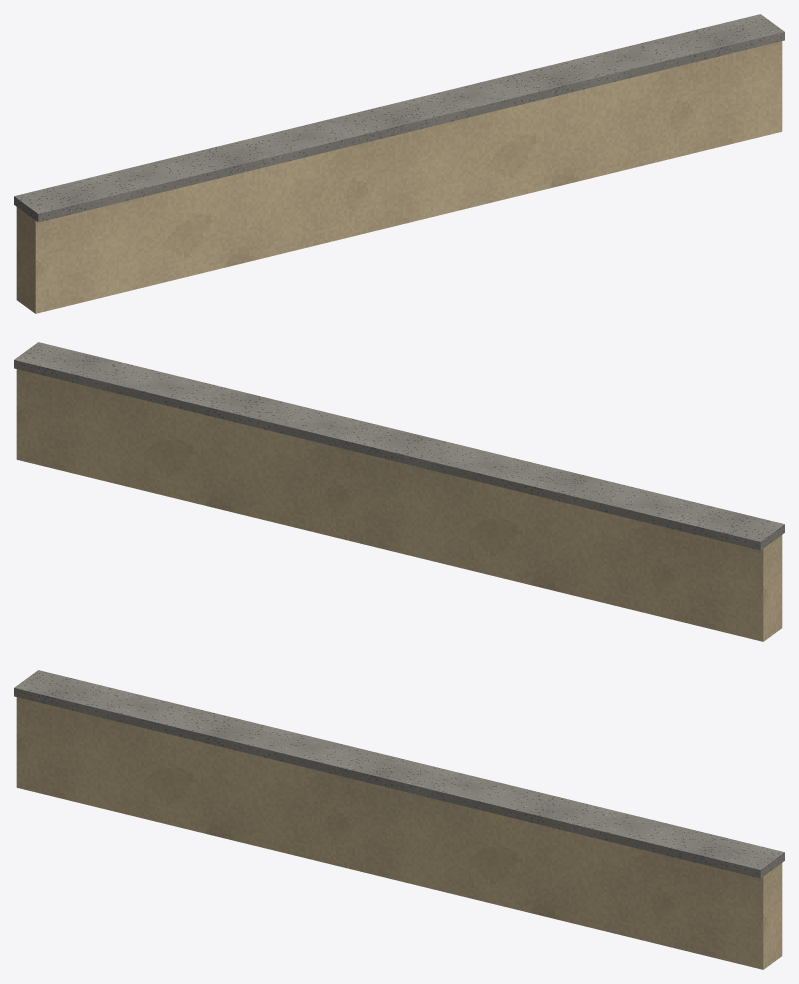
Rendered from parapet-4m.glb.
3 views of the same model, one above another, from view 1: azimuth 30°, elevation 25°; view 2: azimuth 150°, elevation 25°; view 3: azimuth 330°, elevation 25° (orthographic).
Parts seen in each view (by area): view 1: parapet-4m; view 2: parapet-4m; view 3: parapet-4m.
Part boxes in pixels (bbox=[...]): parapet-4m: bbox=[14, 14, 784, 313]; parapet-4m: bbox=[14, 342, 784, 641]; parapet-4m: bbox=[14, 670, 784, 969].
Size of the model in its own units: 4.6 by 0.6 by 0.26.
Materials: 1 (1 with a texture image).
